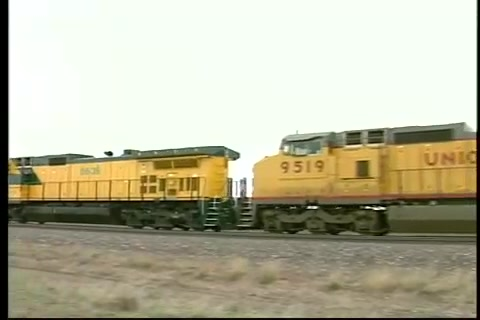train: (10, 123, 478, 240)
